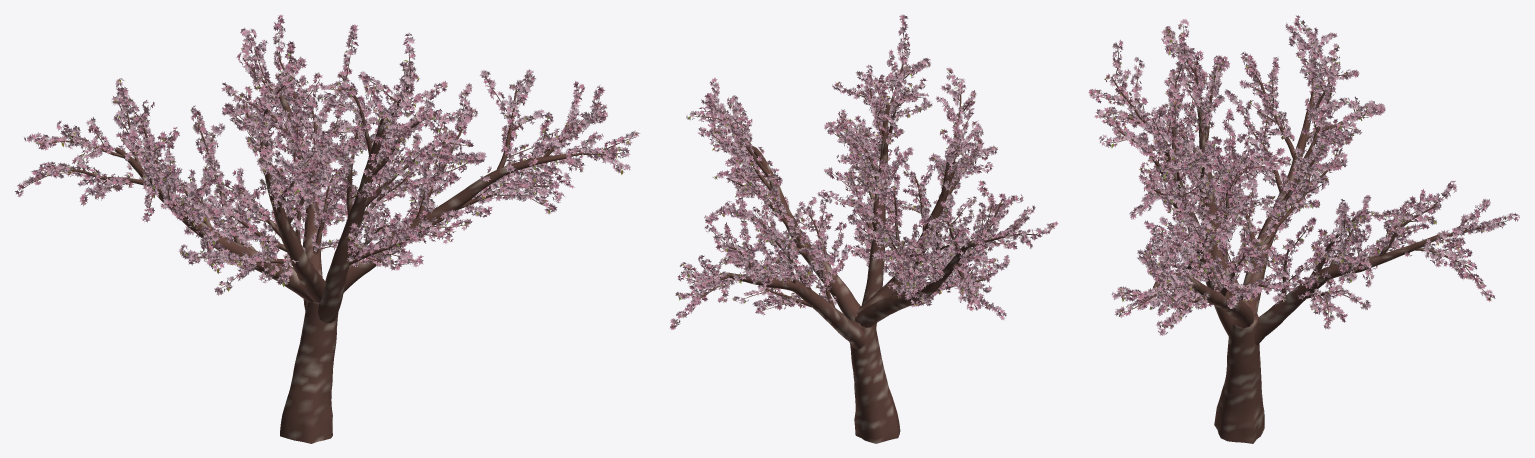
File: cherry_blossom.glb
The picture shows the model from 3 angles, left to right: view 1: azimuth 30°, elevation 25°; view 2: azimuth 150°, elevation 25°; view 3: azimuth 270°, elevation 25°; orthographic projection. The views are drawn at different scales.
Parts seen in each view (by area): view 1: cherry_blossom; view 2: cherry_blossom; view 3: cherry_blossom.
Boxes of the visible parts, x1,y1,x2,y2 form: cherry_blossom: [15, 14, 640, 443]; cherry_blossom: [669, 14, 1058, 443]; cherry_blossom: [1088, 15, 1519, 443].
Size of the model in its own units: 8.37 by 6.92 by 6.6.
